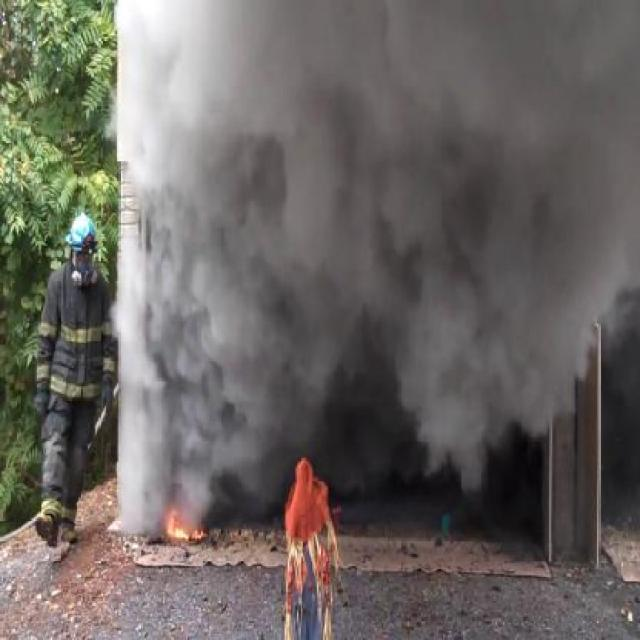smoke: (322, 32, 624, 420), (118, 19, 356, 486)
